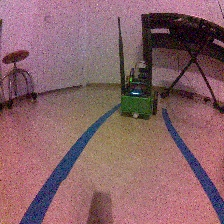rob: (119, 66, 159, 119)
